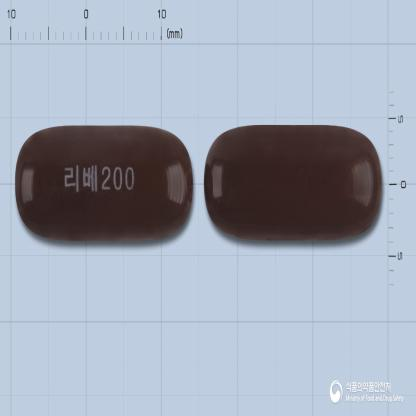pill: (14, 123, 194, 244), (203, 123, 383, 240)
